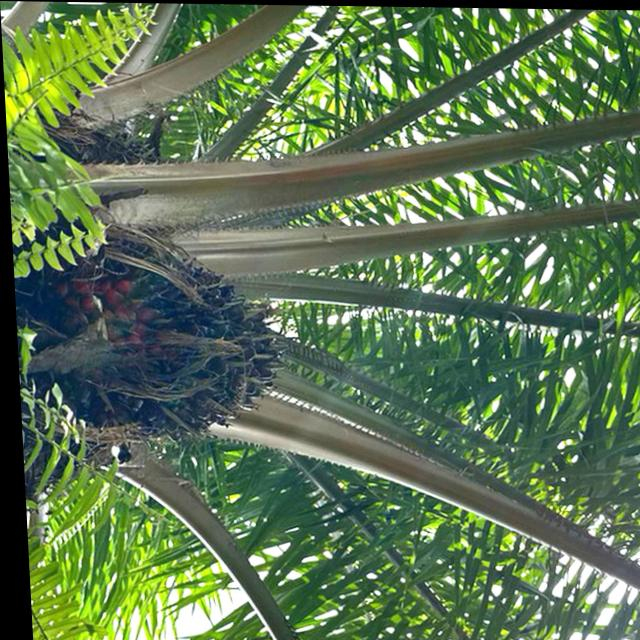ripe: (9, 216, 291, 441)
